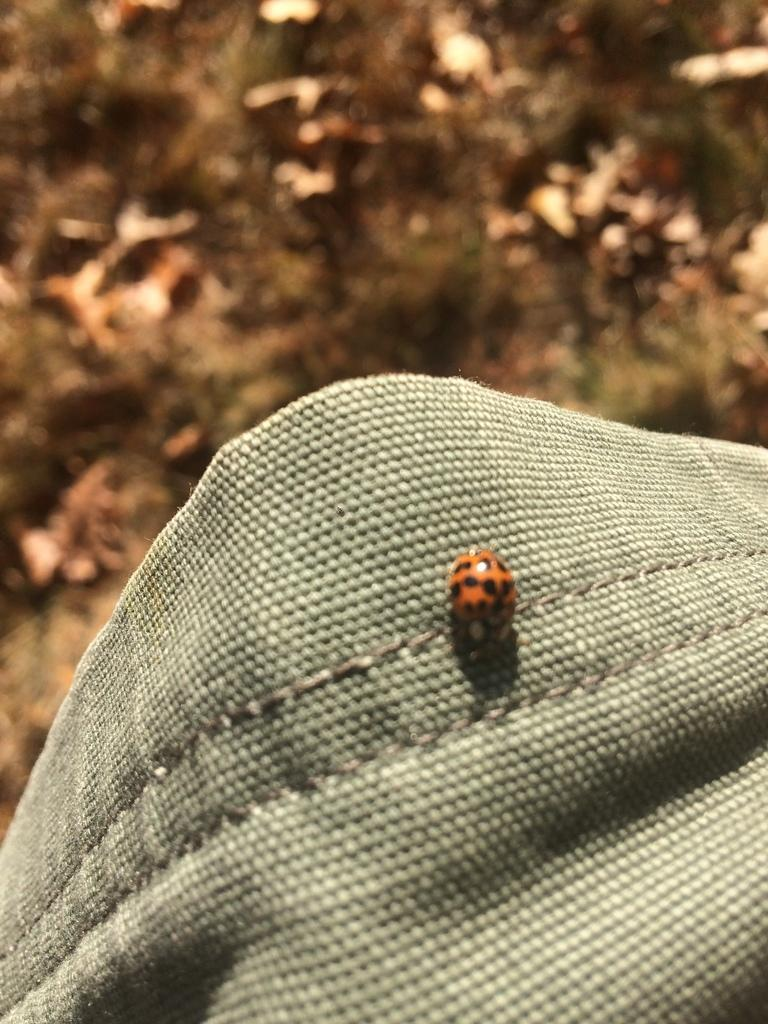ladybug: (439, 546, 524, 666)
